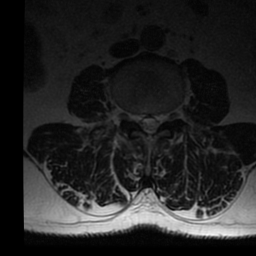CCS_normal: (145, 105, 153, 141)
LFS_normal: (161, 102, 171, 128)
LLS_normal: (153, 105, 161, 134)
RFS_normal: (128, 102, 136, 128)
RLS_normal: (137, 104, 145, 135)
